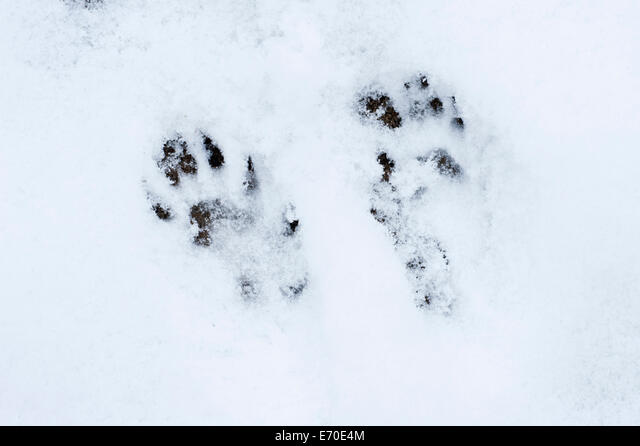raccoon: (103, 115, 335, 326), (346, 72, 487, 329)
